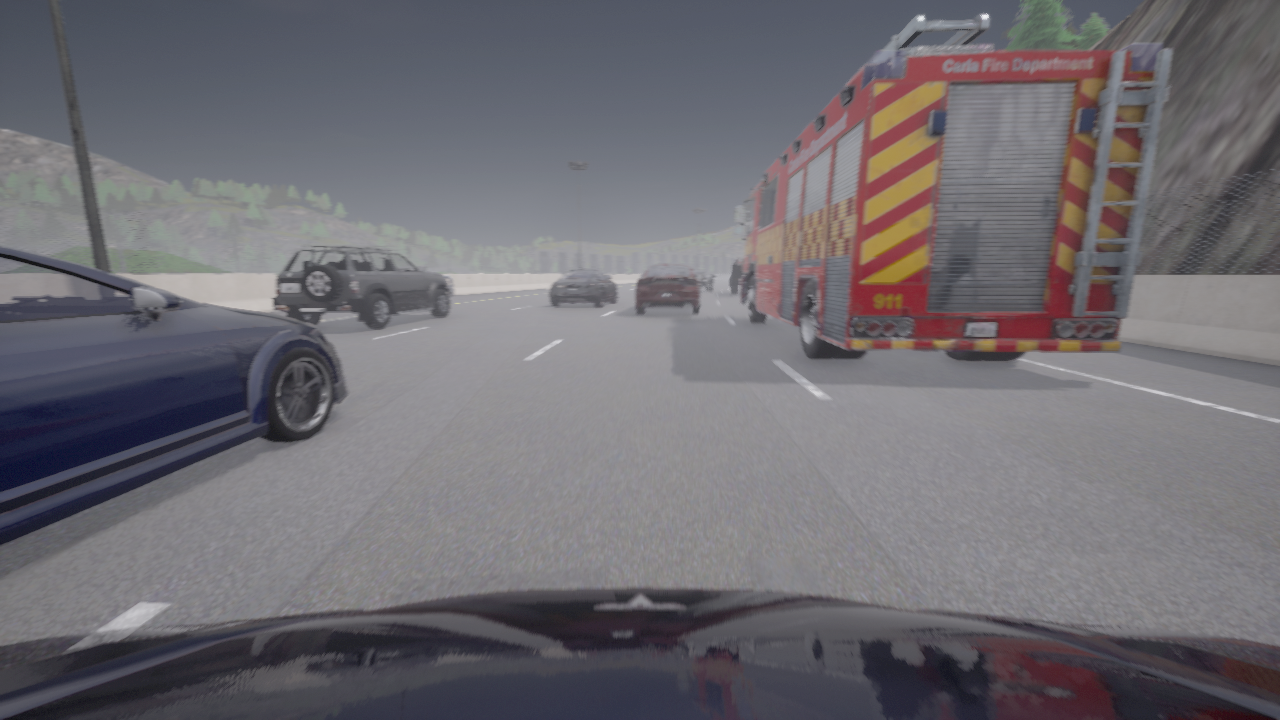cyclist: (0, 588, 1279, 719), (734, 13, 1171, 361), (271, 245, 453, 328), (636, 262, 702, 314), (548, 269, 616, 306), (729, 258, 743, 294), (692, 269, 713, 291), (599, 270, 606, 277)
